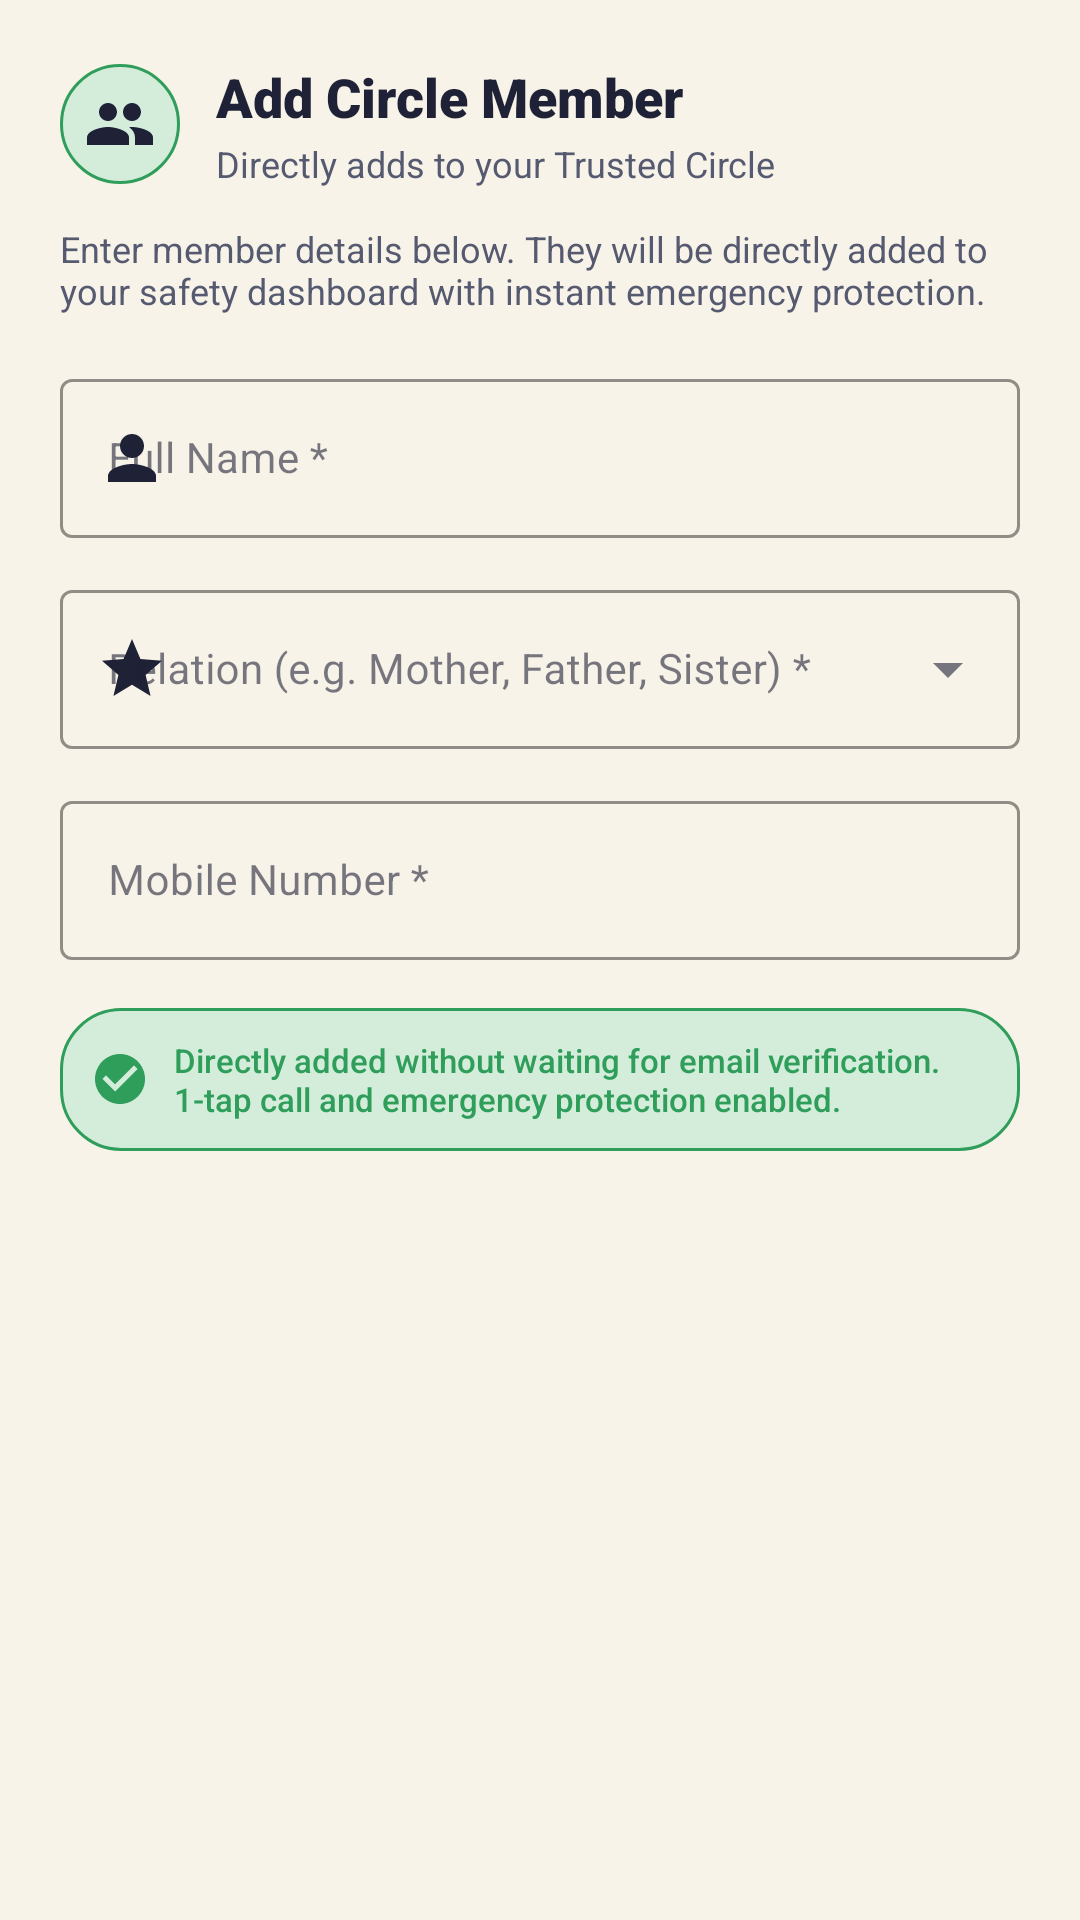

Icons on this 1080*1920 Android screen, each with the point to tap as (x,y):
check circle: (120,1079)
family group: (120,124)
